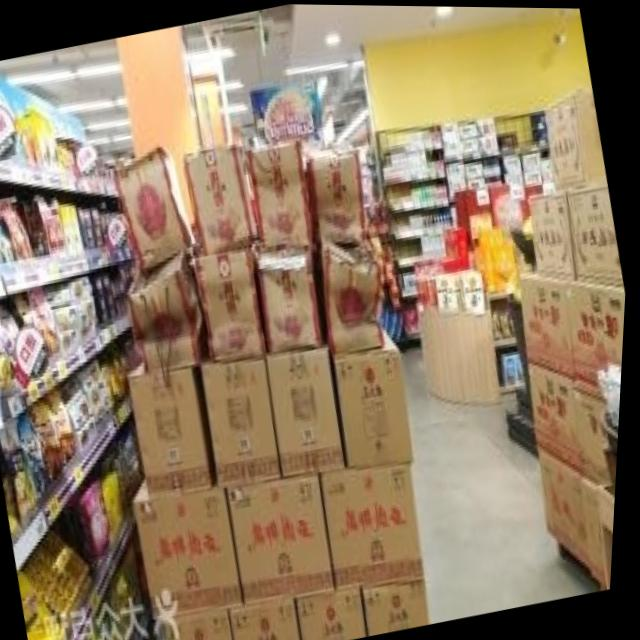box: (139, 479, 249, 619), (232, 474, 341, 606), (324, 462, 431, 588), (132, 362, 218, 496), (338, 323, 418, 465), (203, 355, 287, 488), (115, 146, 199, 273), (269, 348, 350, 478), (131, 253, 211, 373), (195, 240, 268, 360), (184, 145, 260, 252), (257, 244, 325, 351), (321, 241, 385, 353), (249, 139, 315, 245), (565, 278, 628, 383), (544, 90, 609, 191), (542, 445, 595, 567), (531, 359, 587, 472), (305, 148, 368, 245), (521, 272, 578, 379), (569, 181, 627, 284), (529, 192, 579, 278), (367, 579, 438, 635), (576, 379, 614, 482), (302, 586, 374, 640), (235, 596, 308, 640), (170, 607, 239, 640)
